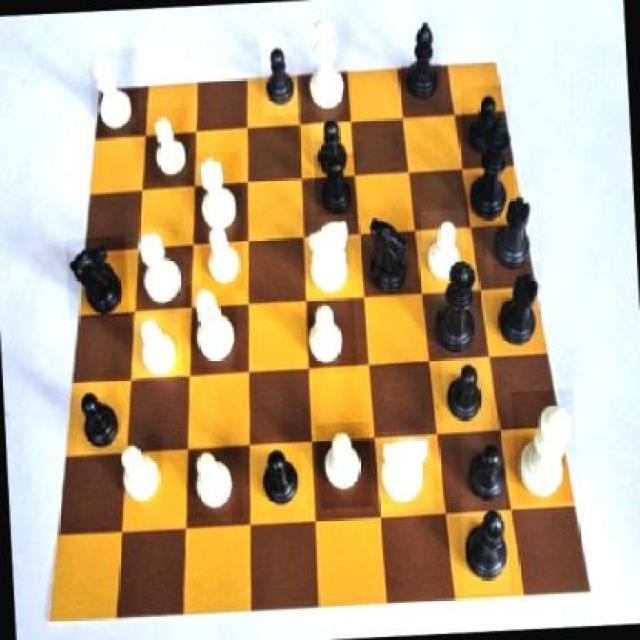bishop: (460, 496, 511, 594), (397, 18, 441, 108)
black-bishop: (462, 106, 518, 231)
black-king: (362, 208, 422, 300), (66, 236, 130, 320)
black-knight: (254, 438, 309, 512), (458, 434, 512, 508), (440, 356, 492, 432), (74, 377, 124, 454), (460, 86, 509, 163), (260, 37, 303, 116), (314, 154, 360, 223), (311, 117, 354, 181)
black-pawn: (423, 249, 480, 359)
black-queen: (494, 261, 548, 354), (483, 187, 539, 276)
black-rook: (186, 283, 240, 372), (89, 48, 142, 138)
white-bishop: (511, 389, 578, 505)
white-king: (376, 431, 434, 514), (302, 216, 358, 300)
white-knight: (317, 422, 374, 508), (184, 444, 243, 522), (304, 294, 358, 374), (420, 210, 470, 288), (143, 105, 193, 182), (117, 436, 166, 506), (132, 314, 183, 381), (199, 226, 246, 294)
white-pawn: (302, 12, 354, 123)
white-queen: (191, 150, 246, 242), (132, 226, 186, 314)
